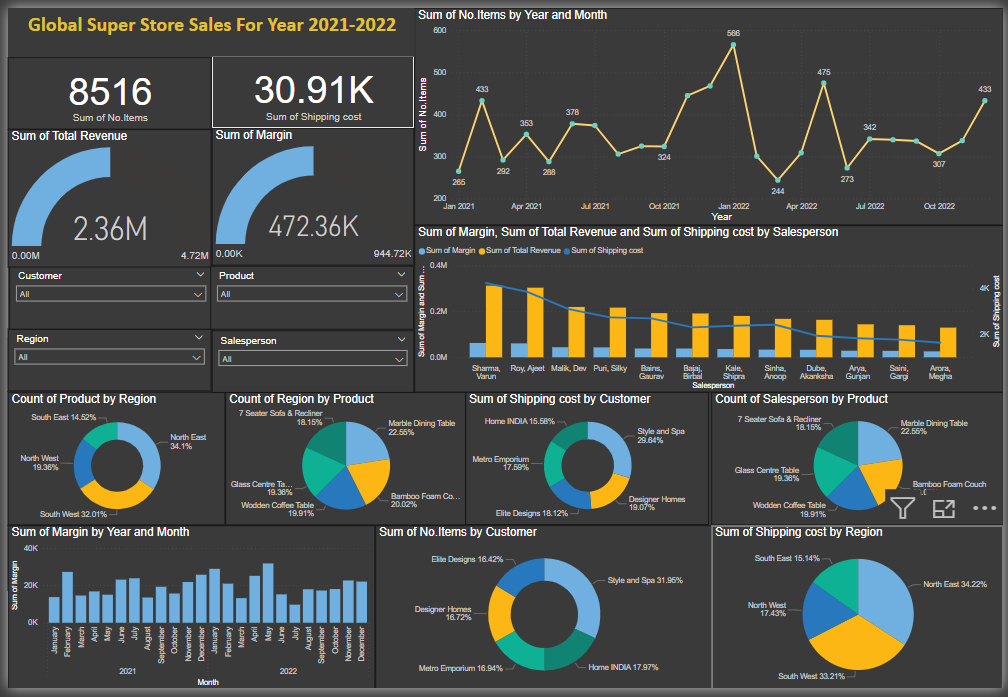

Layout of this report page (visuals, bound fields, positions):
{"tool":"powerbi","page":{"name":"Page 1","canvas":[1580,1080],"ordinal":0},"visuals":[{"type":"clusteredColumnChart","fields":{"Y":["Sum(Raw_Data.Margin)"],"Category":["Raw_Data.Date.Variation.Date Hierarchy.Year","Raw_Data.Date.Variation.Date Hierarchy.Month"]},"box":[0,820.3,582.5,259.7],"z":0},{"type":"donutChart","fields":{"Category":["Raw_Data.Customer"],"Y":["Sum(Raw_Data.No.Items)"]},"box":[582.5,820.3,533.9,259.7],"z":1000},{"type":"pieChart","fields":{"Category":["Raw_Data.Region"],"Y":["Sum(Raw_Data.Shipping cost)"]},"box":[1116.4,820.3,463.6,259.7],"z":2000},{"type":"donutChart","fields":{"Category":["Raw_Data.Region"],"Y":["CountNonNull(Raw_Data.Product)"]},"box":[0,609.2,344.6,211.1],"z":3000},{"type":"pieChart","fields":{"Category":["Raw_Data.Product"],"Y":["CountNonNull(Raw_Data.Salesperson)"]},"box":[1116.4,609.2,463.6,211.1],"z":4000},{"type":"donutChart","fields":{"Y":["Sum(Raw_Data.Shipping cost)"],"Category":["Raw_Data.Customer"]},"box":[725.7,609.2,390.7,211.1],"z":5000},{"type":"pieChart","fields":{"Y":["CountNonNull(Raw_Data.Region)"],"Category":["Raw_Data.Product"]},"box":[344.6,609.2,381,211.1],"z":6000},{"type":"lineClusteredColumnComboChart","fields":{"Category":["Raw_Data.Salesperson"],"Y":["Sum(Raw_Data.Margin)","Sum(Raw_Data.Total Revenue)"],"Y2":["Sum(Raw_Data.Shipping cost)"]},"box":[645.6,344.6,934.4,264.5],"z":7000},{"type":"slicer","fields":{"Values":["Raw_Data.Region"]},"box":[0,509.7,322.4,98.5],"z":8000},{"type":"slicer","fields":{"Values":["Raw_Data.Salesperson"]},"box":[324.4,511.6,320.5,98.5],"z":9000},{"type":"slicer","fields":{"Values":["Raw_Data.Customer"]},"box":[1.9,409.3,322.4,100.4],"z":10000},{"type":"slicer","fields":{"Values":["Raw_Data.Product"]},"box":[322.4,409.3,322.4,100.4],"z":11000},{"type":"gauge","fields":{"Y":["Sum(Raw_Data.Total Revenue)"]},"box":[0,191.7,322.8,218.4],"z":12000},{"type":"gauge","fields":{"Y":["Sum(Raw_Data.Margin)"]},"box":[322.8,191.7,322.8,218.4],"z":13000},{"type":"card","fields":{"Values":["Sum(Raw_Data.No.Items)"]},"box":[0,77.7,322.8,114.1],"z":14000},{"type":"card","fields":{"Values":["Sum(Raw_Data.Shipping cost)"]},"box":[322.4,77.2,322.4,113.9],"z":15000},{"type":"lineChart","fields":{"Y":["Sum(Raw_Data.No.Items)"],"Category":["Raw_Data.Date.Variation.Date Hierarchy.Year","Raw_Data.Date.Variation.Date Hierarchy.Month"]},"box":[645.6,0,934.4,344.6],"z":16000},{"type":"textbox","box":[2.4,0,643.1,77.7],"z":17000}]}

Visuals, with their boxes in screenshot pixels (x1, y1, x2, y2), scaled from the page's 1580x1080 canvas onto the 1008x697 screenshot:
clusteredColumnChart - Sum(Raw_Data.Margin) x Raw_Data.Date.Variation.Date Hierarchy.Year: crop(0, 529, 372, 696)
donutChart - Raw_Data.Customer x Sum(Raw_Data.No.Items): crop(372, 529, 712, 696)
pieChart - Raw_Data.Region x Sum(Raw_Data.Shipping cost): crop(712, 529, 1007, 696)
donutChart - Raw_Data.Region x CountNonNull(Raw_Data.Product): crop(0, 393, 220, 529)
pieChart - Raw_Data.Product x CountNonNull(Raw_Data.Salesperson): crop(712, 393, 1007, 529)
donutChart - Sum(Raw_Data.Shipping cost) x Raw_Data.Customer: crop(463, 393, 712, 529)
pieChart - CountNonNull(Raw_Data.Region) x Raw_Data.Product: crop(220, 393, 463, 529)
lineClusteredColumnComboChart - Raw_Data.Salesperson x Sum(Raw_Data.Margin): crop(412, 222, 1007, 393)
slicer - Raw_Data.Region: crop(0, 329, 206, 393)
slicer - Raw_Data.Salesperson: crop(207, 330, 411, 394)
slicer - Raw_Data.Customer: crop(1, 264, 207, 329)
slicer - Raw_Data.Product: crop(206, 264, 411, 329)
gauge - Sum(Raw_Data.Total Revenue): crop(0, 124, 206, 265)
gauge - Sum(Raw_Data.Margin): crop(206, 124, 412, 265)
card - Sum(Raw_Data.No.Items): crop(0, 50, 206, 124)
card - Sum(Raw_Data.Shipping cost): crop(206, 50, 411, 123)
lineChart - Sum(Raw_Data.No.Items) x Raw_Data.Date.Variation.Date Hierarchy.Year: crop(412, 0, 1007, 222)
textbox: crop(2, 0, 412, 50)
